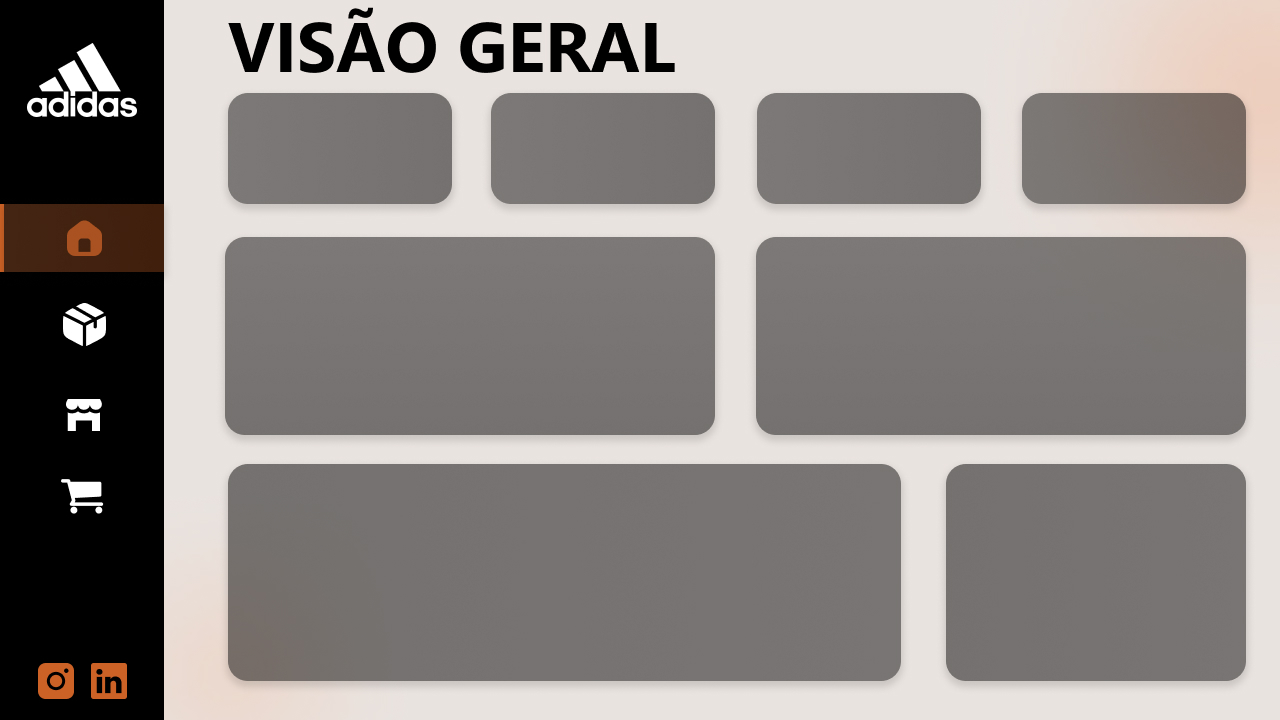

Layout of this report page (visuals, bound fields, positions):
{"tool":"powerbi","page":{"name":"Visão Geral","canvas":[1280,720],"ordinal":1},"visuals":[{"type":"lineChart","fields":{"Y":["Medidas.Total Revenue"],"Category":["Datas.MêsAbrev"]},"box":[250,477.5,633.8,188.8],"z":0},{"type":"pivotTable","fields":{"Values":["Medidas.Product Count"],"Rows":["Data Sales Adidas.Product"]},"box":[956,460,290,241],"z":1000},{"type":"donutChart","fields":{"Category":["Data Sales Adidas.Sales Method"],"Y":["Medidas.Sales Method Count"]},"box":[758.8,242.5,476.2,185],"z":2000},{"type":"map","fields":{"Size":["Medidas.Total Revenue"],"Category":["Data Sales Adidas.City"]},"box":[227.8,242.2,485.6,185.6],"z":3000},{"type":"slicer","fields":{"Values":["Data Sales Adidas.Region"]},"box":[761.4,7.1,215.7,85.7],"z":4000},{"type":"card","fields":{"Values":["Medidas.Margem Média %"]},"box":[492,94,221.3,106],"z":5000},{"type":"card","fields":{"Values":["Medidas.Medium Ticket"]},"box":[1022,94,224,108],"z":6000},{"type":"card","fields":{"Values":["Medidas.Total Profit"]},"box":[227.5,95,223.3,105.8],"z":7000},{"type":"card","fields":{"Values":["Medidas.Total Revenue"]},"box":[759.2,93.8,219.2,107.7],"z":8000},{"type":"slicer","fields":{"Values":["Data Sales Adidas.Ano"]},"box":[1026.7,10,215,84.2],"z":9000},{"type":"actionButton","box":[88.9,656.7,42.2,44.4],"z":10000},{"type":"actionButton","box":[35.6,656.7,42.2,44.4],"z":11000},{"type":"actionButton","box":[0,294.4,164.4,50],"z":12000},{"type":"actionButton","box":[0,385.6,164.4,50],"z":13000},{"type":"actionButton","box":[0,465.6,164.4,50],"z":14000}]}

Visuals, with their boxes on the page's 1280x720 design canvas (x1, y1, x2, y2). These are canvas units, not pixel positions in the 1280x720 screenshot, which may show the page scaled, cropped or inside an application window:
lineChart - Medidas.Total Revenue x Datas.MêsAbrev: left=250, top=478, right=884, bottom=666
pivotTable - Medidas.Product Count x Data Sales Adidas.Product: left=956, top=460, right=1246, bottom=701
donutChart - Data Sales Adidas.Sales Method x Medidas.Sales Method Count: left=759, top=242, right=1235, bottom=428
map - Medidas.Total Revenue x Data Sales Adidas.City: left=228, top=242, right=713, bottom=428
slicer - Data Sales Adidas.Region: left=761, top=7, right=977, bottom=93
card - Medidas.Margem Média %: left=492, top=94, right=713, bottom=200
card - Medidas.Medium Ticket: left=1022, top=94, right=1246, bottom=202
card - Medidas.Total Profit: left=228, top=95, right=451, bottom=201
card - Medidas.Total Revenue: left=759, top=94, right=978, bottom=202
slicer - Data Sales Adidas.Ano: left=1027, top=10, right=1242, bottom=94
actionButton: left=89, top=657, right=131, bottom=701
actionButton: left=36, top=657, right=78, bottom=701
actionButton: left=0, top=294, right=164, bottom=344
actionButton: left=0, top=386, right=164, bottom=436
actionButton: left=0, top=466, right=164, bottom=516
